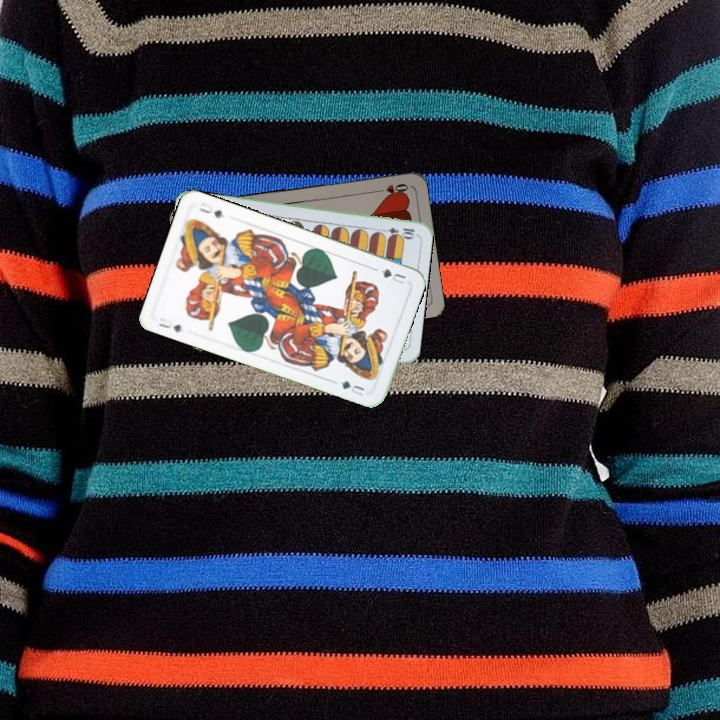E10: (376, 223, 417, 239)
GU: (371, 264, 408, 286), (154, 314, 184, 335)
HO: (370, 179, 410, 197)
